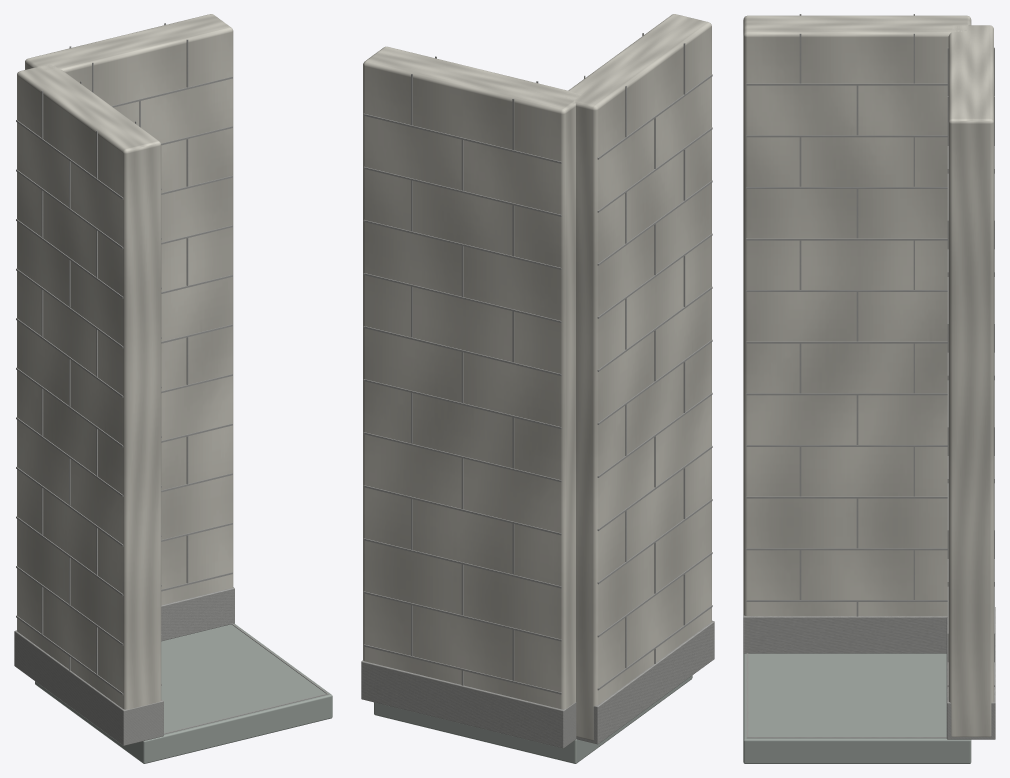
File: prison-complex-builder-corridor-corner-3d932ad2__25612.glb
The picture shows the model from 3 angles, left to right: view 1: azimuth 30°, elevation 25°; view 2: azimuth 150°, elevation 25°; view 3: azimuth 270°, elevation 25°; orthographic projection. The views are drawn at different scales.
Parts seen in each view (by area): view 1: corridor-corner; view 2: corridor-corner; view 3: corridor-corner.
Boxes of the visible parts, x1,y1,x2,y2 form: corridor-corner: (14,14,332,763); corridor-corner: (361,14,714,763); corridor-corner: (743,14,995,763).
Bounding box in the file's own units: 1.11 × 3.12 × 1.11.
Materials: 3 (2 with a texture image).
